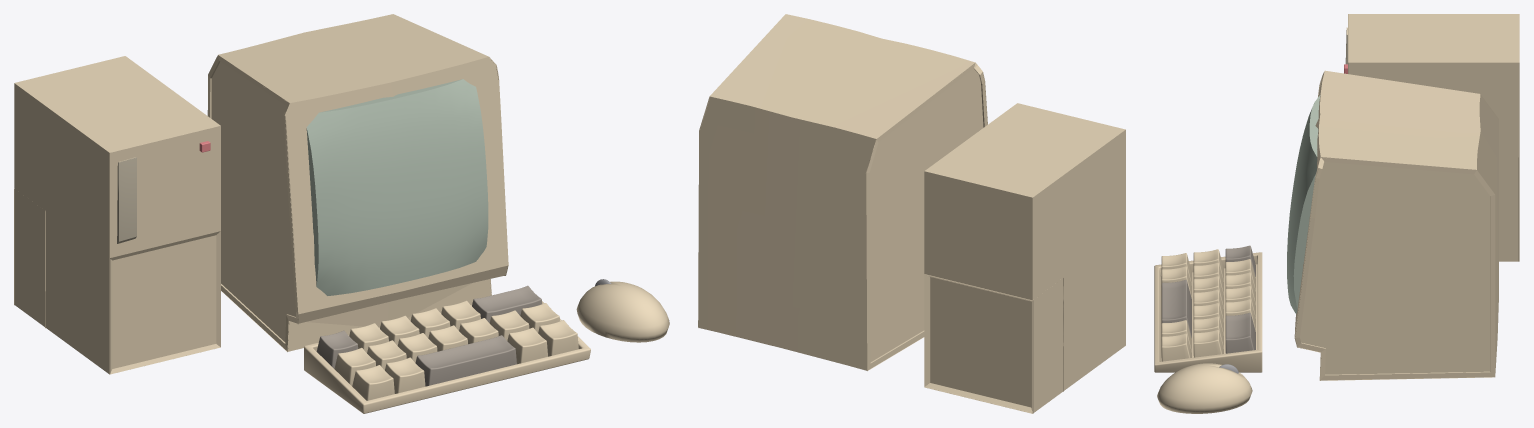
File: computerEllena.fbx
3 renders of one model, left to right at view 1: azimuth 30°, elevation 25°; view 2: azimuth 150°, elevation 25°; view 3: azimuth 270°, elevation 25°, orthographic. The views are drawn at different scales.
Visible parts, largest first — view 1: Cube.002, Cube, Cube.001, Plane.001, Plane, Sphere; view 2: Cube, Cube.002; view 3: Cube, Cube.002, Plane.001, Sphere, Cube.001, Plane.
Part boxes in pixels (<box>): Cube.002: <box>14,56,220,374</box>; Cube: <box>207,14,508,351</box>; Cube.001: <box>306,79,488,295</box>; Plane.001: <box>316,285,578,400</box>; Plane: <box>304,301,590,413</box>; Sphere: <box>576,279,669,342</box>; Cube: <box>698,14,987,370</box>; Cube.002: <box>924,103,1125,413</box>; Cube: <box>1294,70,1498,380</box>; Cube.002: <box>1344,14,1519,261</box>; Plane.001: <box>1161,245,1255,361</box>; Sphere: <box>1157,363,1252,413</box>; Cube.001: <box>1287,95,1320,313</box>; Plane: <box>1154,252,1262,372</box>.
Bounding box in the file's own units: 842 × 429 × 634.
